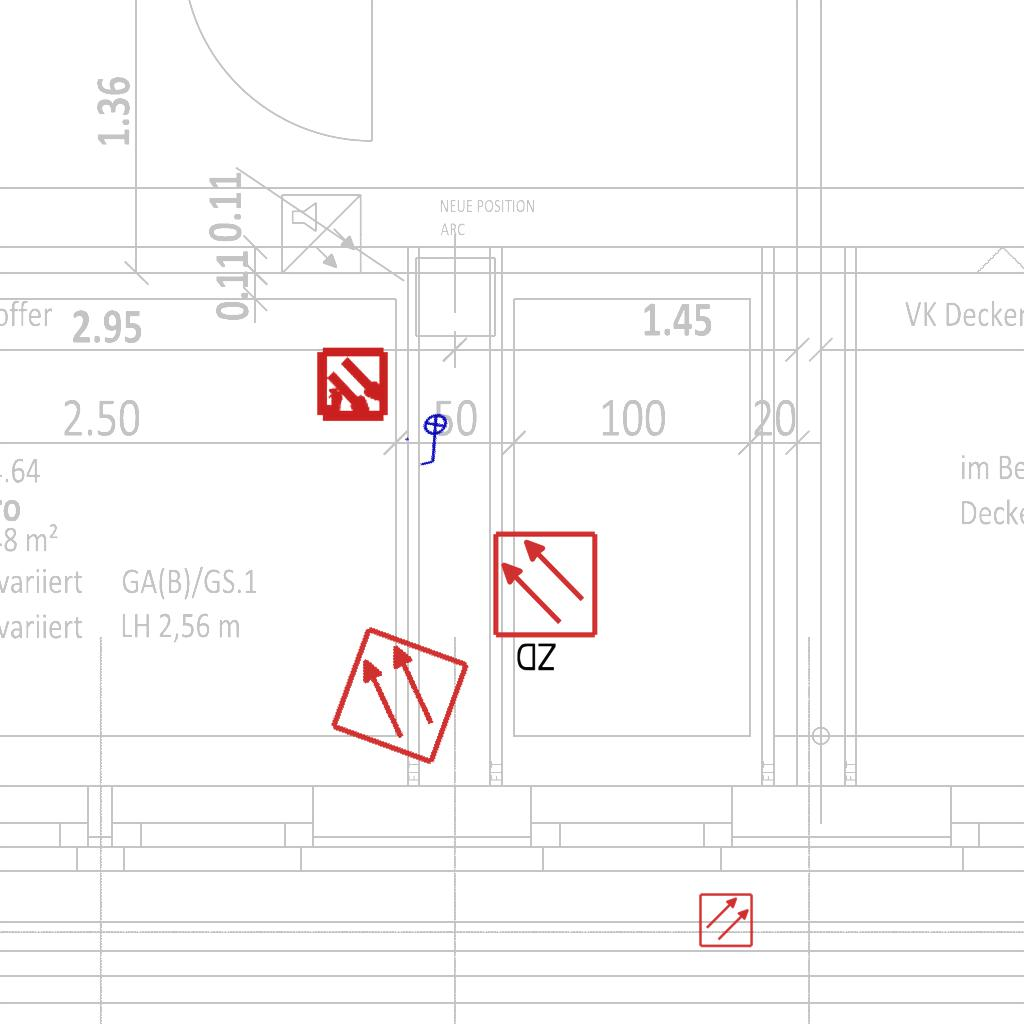Ausschalter_beleuchtet: (398, 405, 470, 475)
OT_Multisensormelder_(Kombination_RMO_WMD): (296, 330, 409, 443)
RMO_Rauchmelder_optischer: (327, 623, 472, 768), (698, 892, 754, 948)
ZD_Melder_in_Zwischendecke_mit_Revisionsoeffnung_mind_40_x_40_cm: (490, 529, 604, 678)
